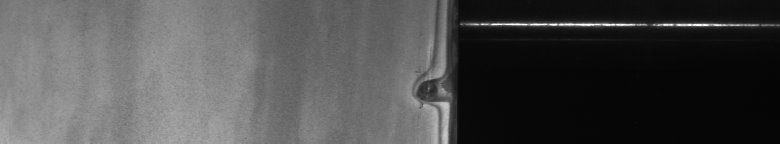hb: (407, 40, 432, 112)
